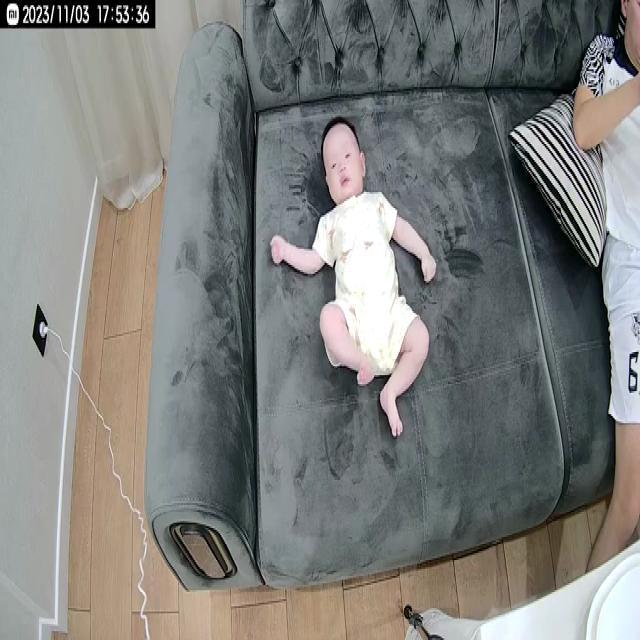baby: (268, 114, 438, 442)
